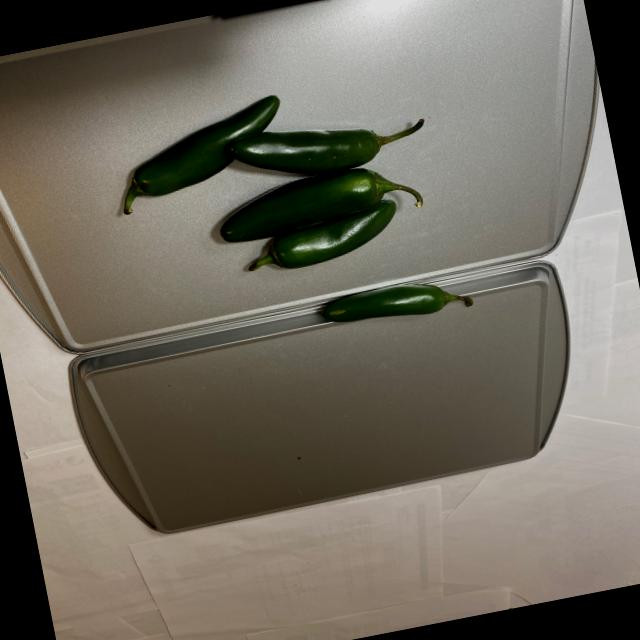chilli: (96, 68, 486, 374)
